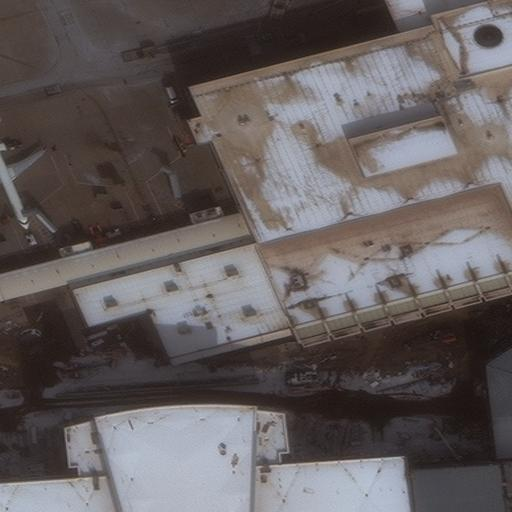Medium Civil Transport: (0, 129, 45, 229)
